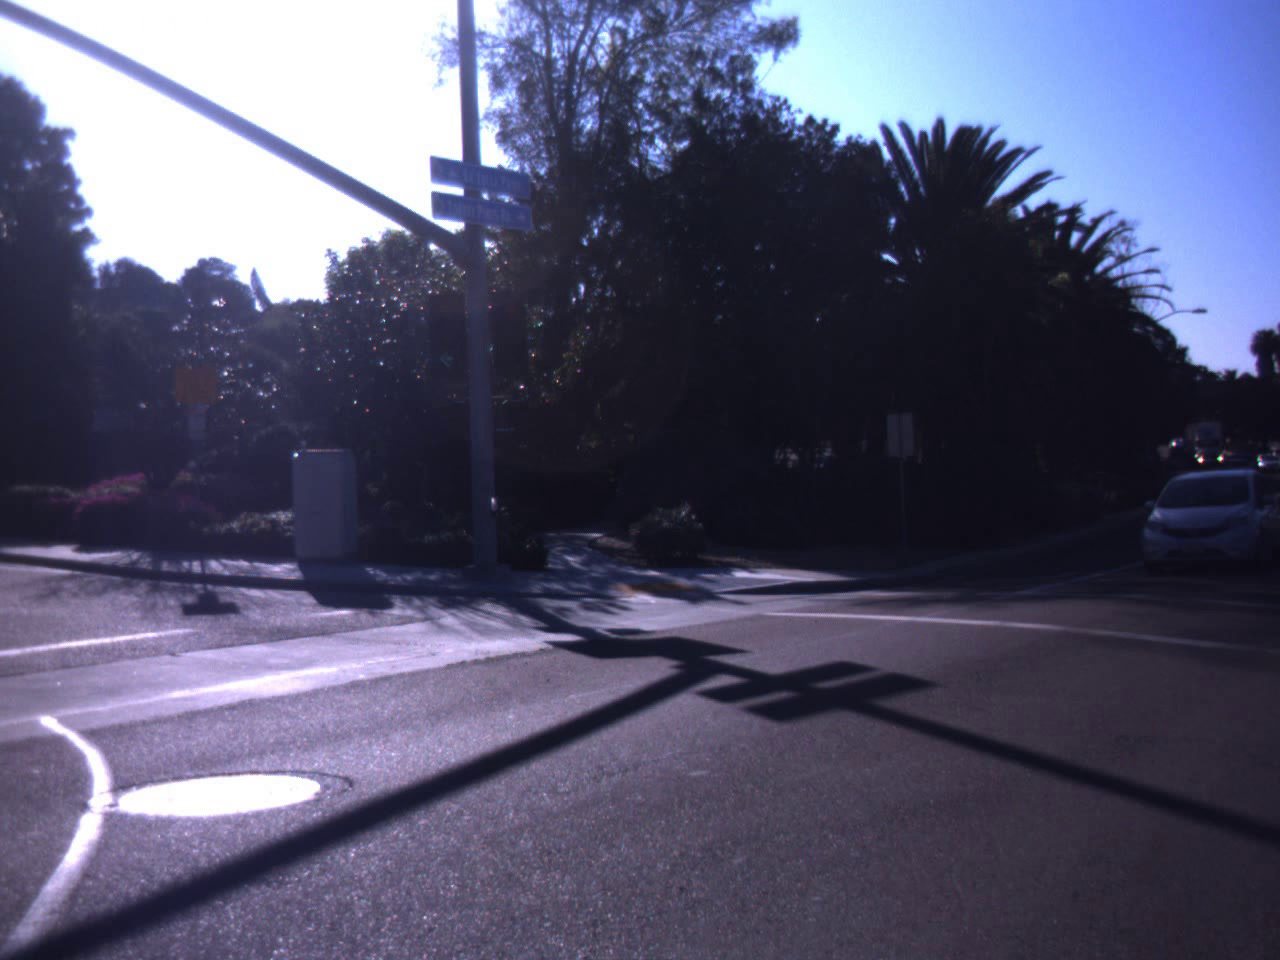go: (419, 294, 473, 374)
